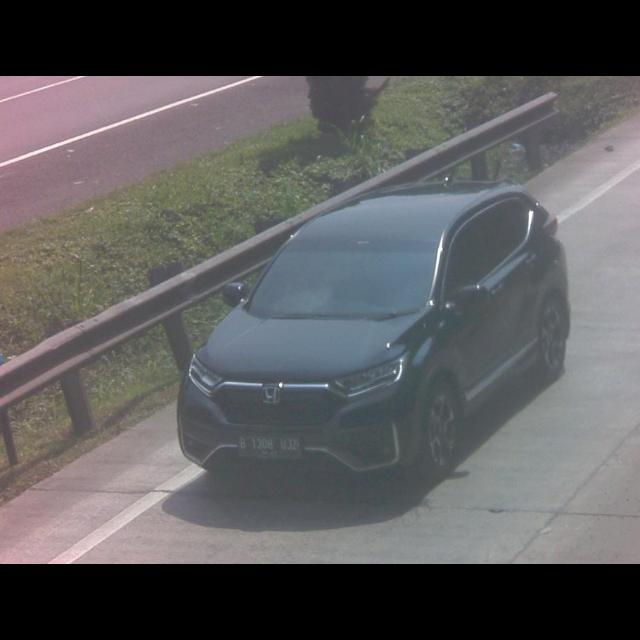plate: (234, 434, 304, 458)
